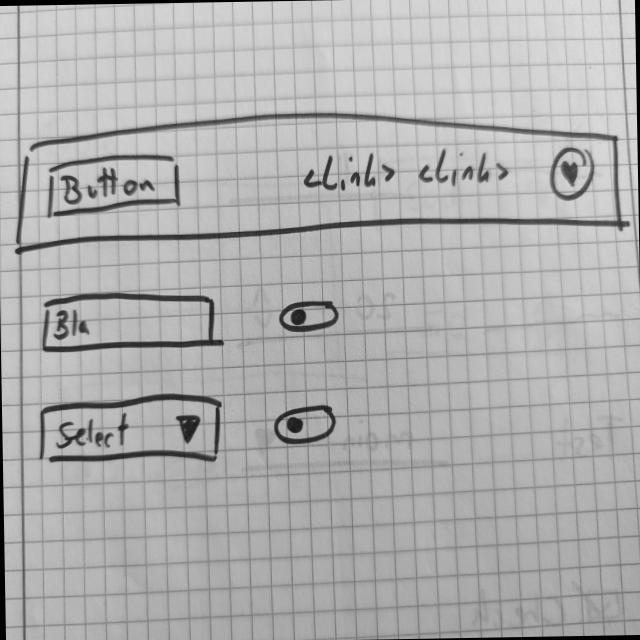button: (44, 150, 186, 222)
container: (11, 105, 625, 256)
icon-button: (549, 142, 598, 204)
input: (36, 288, 217, 361)
link: (301, 150, 400, 197), (416, 147, 512, 191)
select: (36, 392, 224, 467)
toggle: (273, 404, 339, 448), (279, 294, 346, 337)
